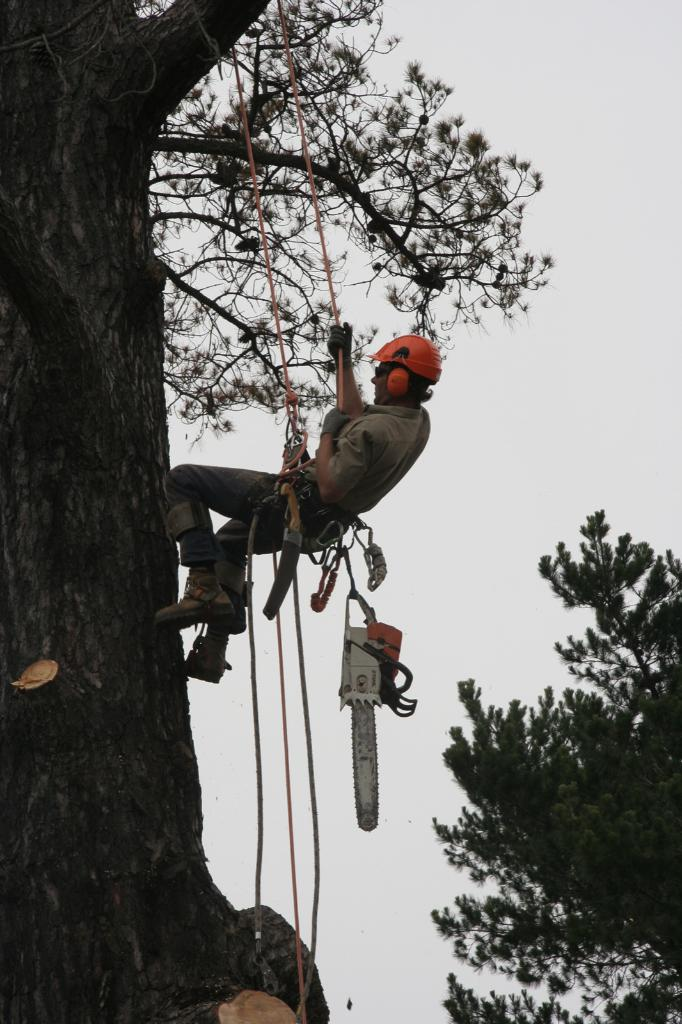Tree: (428, 508, 681, 1023)
